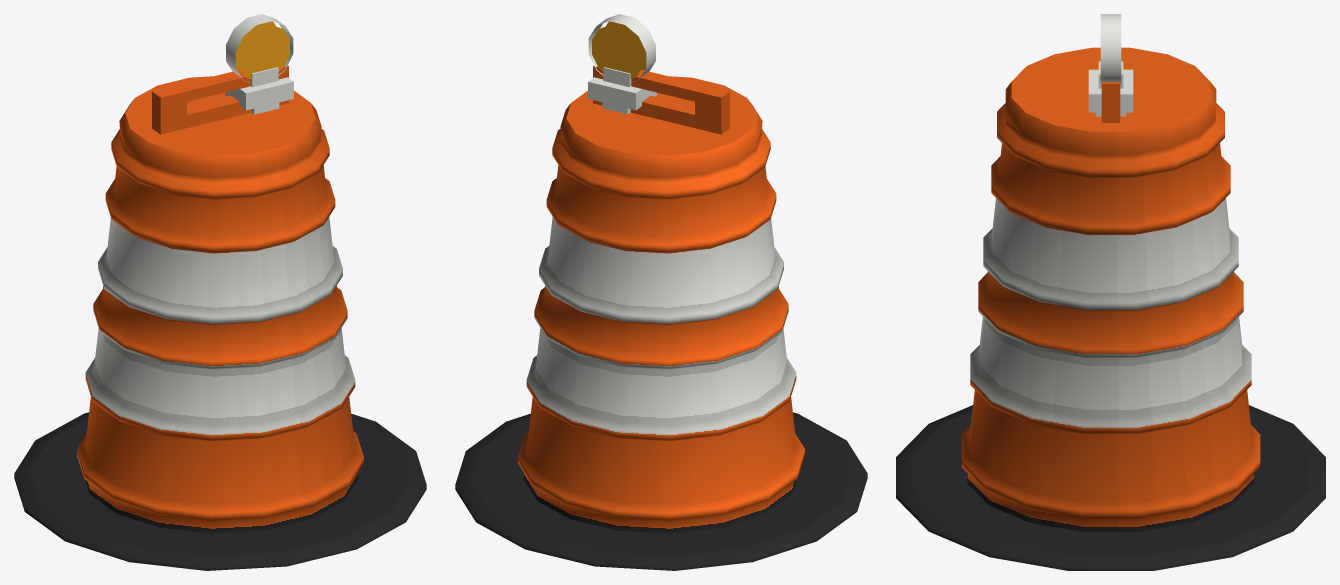
File: workzone_drum_lit.obj
3 views of the same model, side by side, from view 1: azimuth 30°, elevation 25°; view 2: azimuth 150°, elevation 25°; view 3: azimuth 270°, elevation 25° (orthographic). The views are drawn at different scales.
Parts seen in each view (by area): view 1: workzone_drum_lit; view 2: workzone_drum_lit; view 3: workzone_drum_lit.
Boxes of the visible parts, <box> form: workzone_drum_lit: <box>14,14,426,570</box>; workzone_drum_lit: <box>455,14,867,570</box>; workzone_drum_lit: <box>896,14,1325,570</box>.
Bounding box in the file's own units: 0.8704 × 1.08 × 0.8704.
